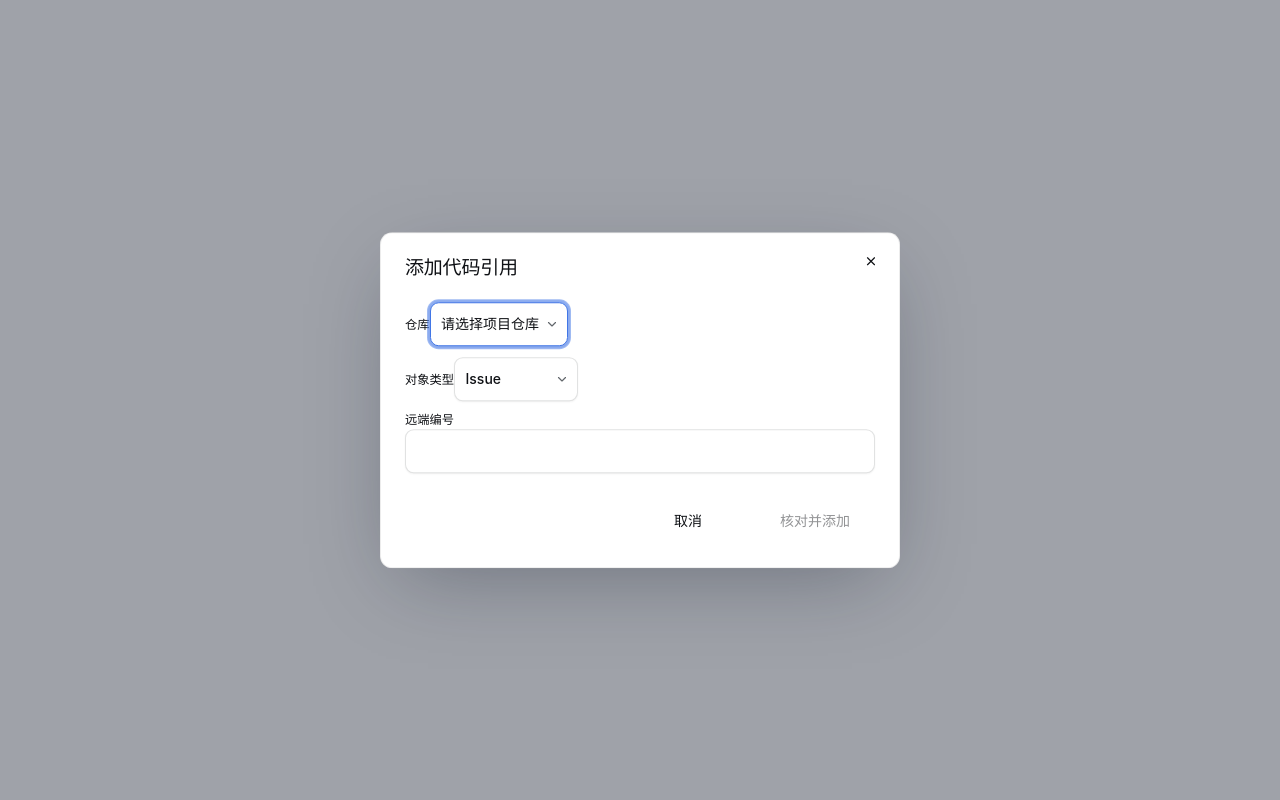
Test: CodeReferenceDialog › 来源核对失败时显示业务错误且不保存
Type "12" into the field labelled "远端编号".
click(640, 451); type("12")  # box [405,429,875,473]
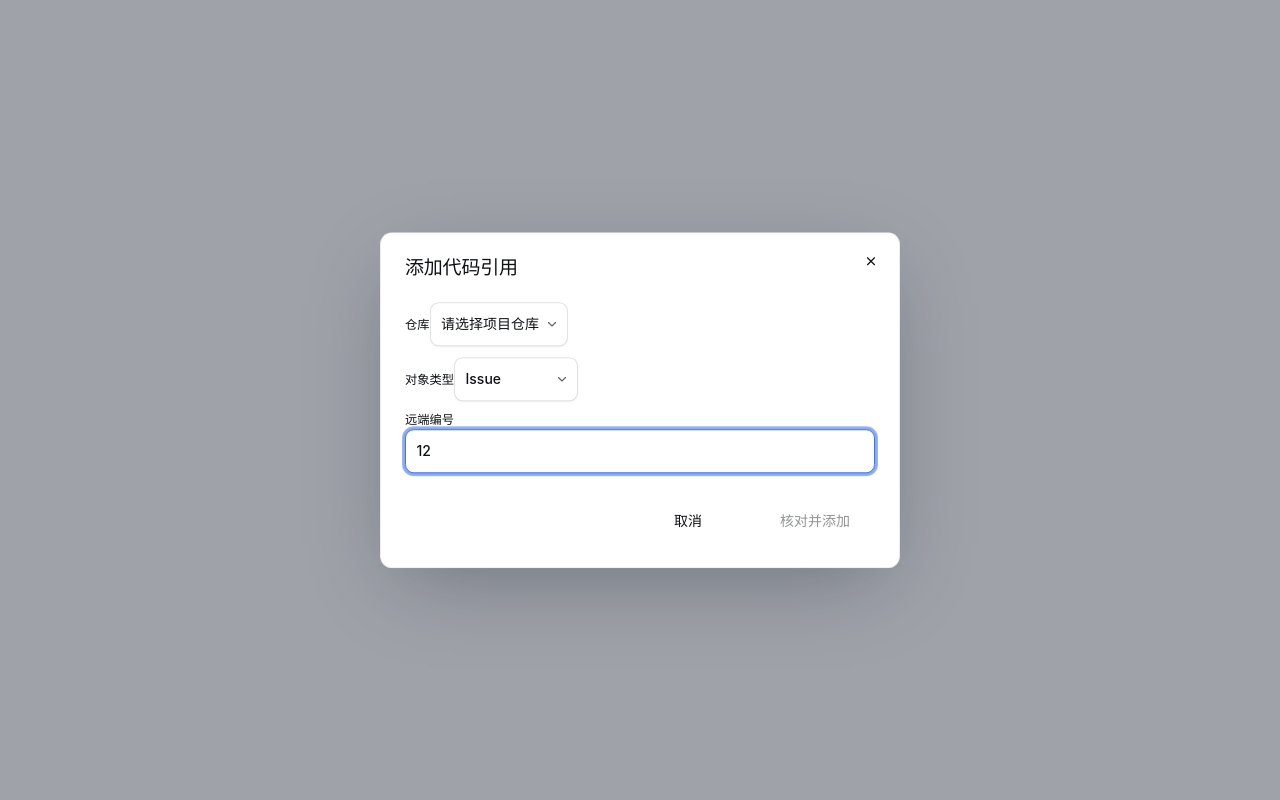
Select "ops/app" in the dropdown labelled "仓库" at [499, 324], box [430,302,568,346]
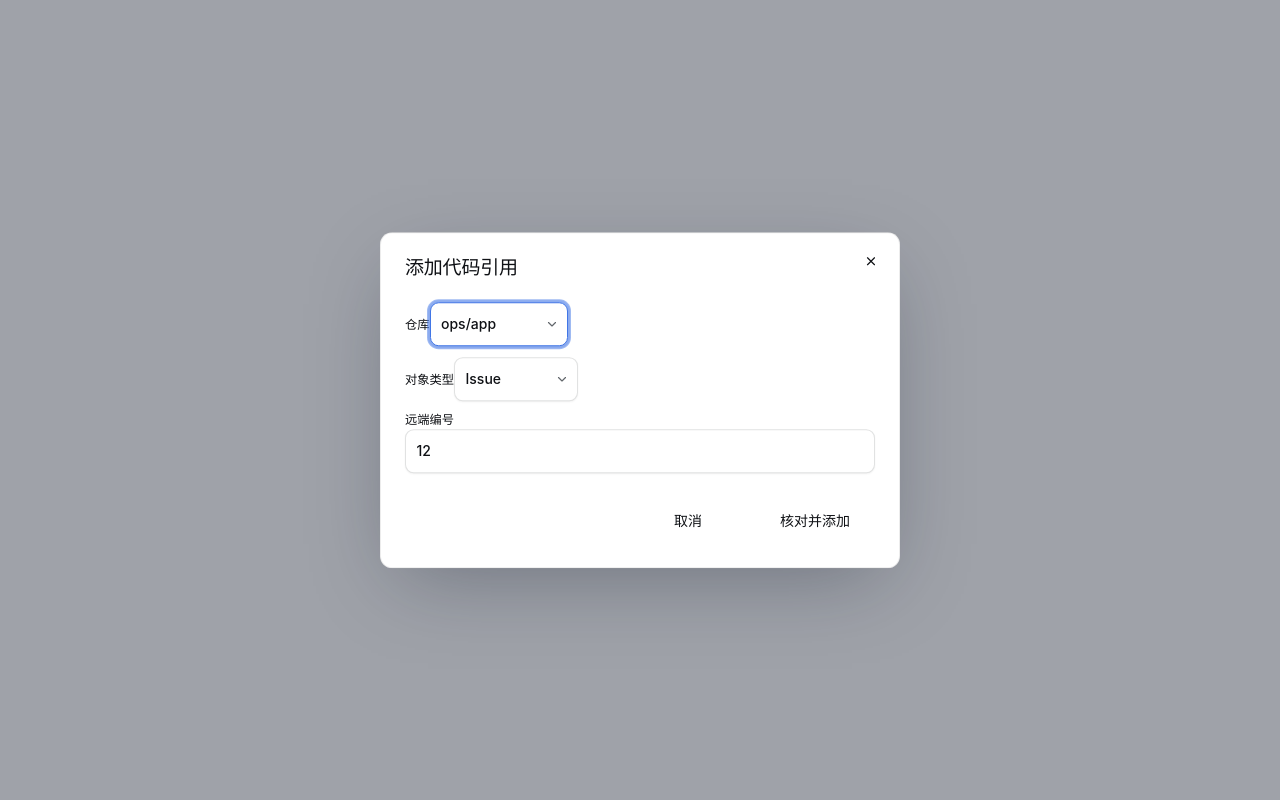
Click the button "核对并添加".
click(815, 521)  # box [755,499,875,543]
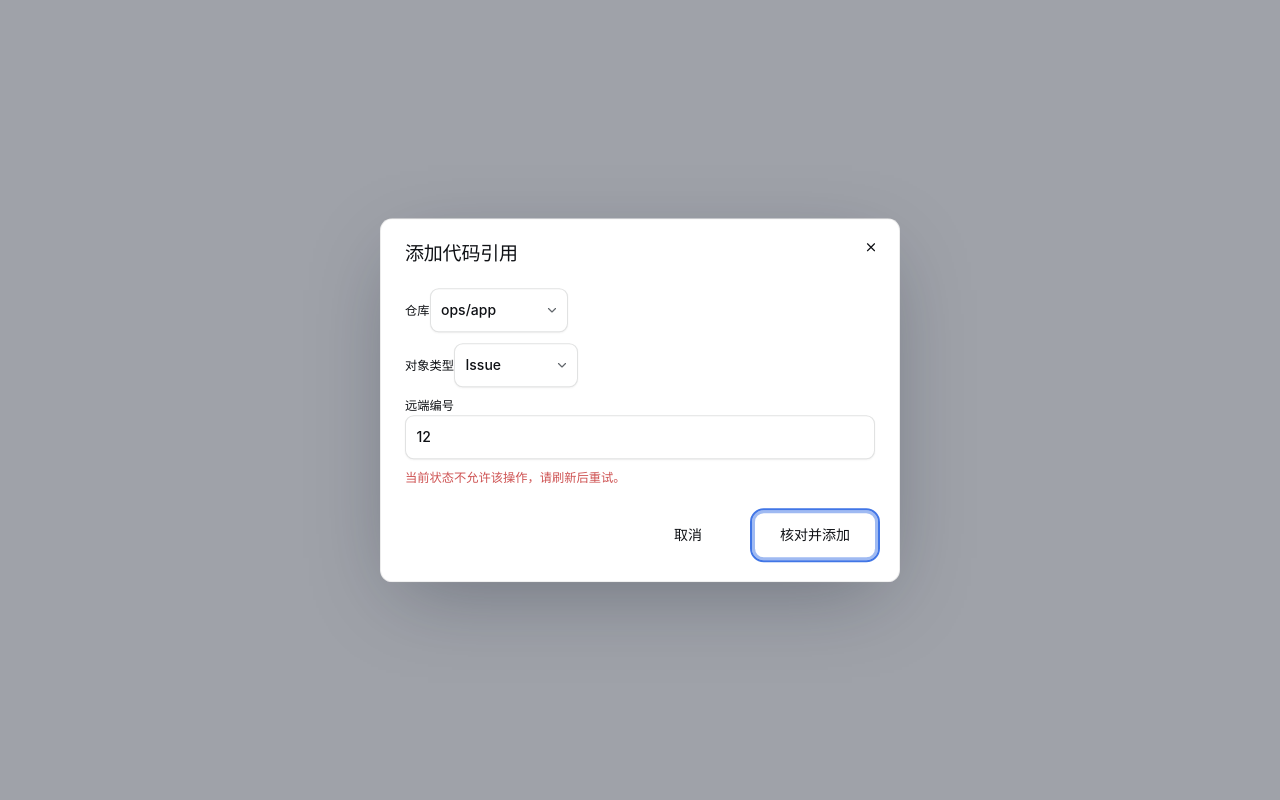
Result: the message shows "当前状态不允许该操作" at [405,470,626,485]
